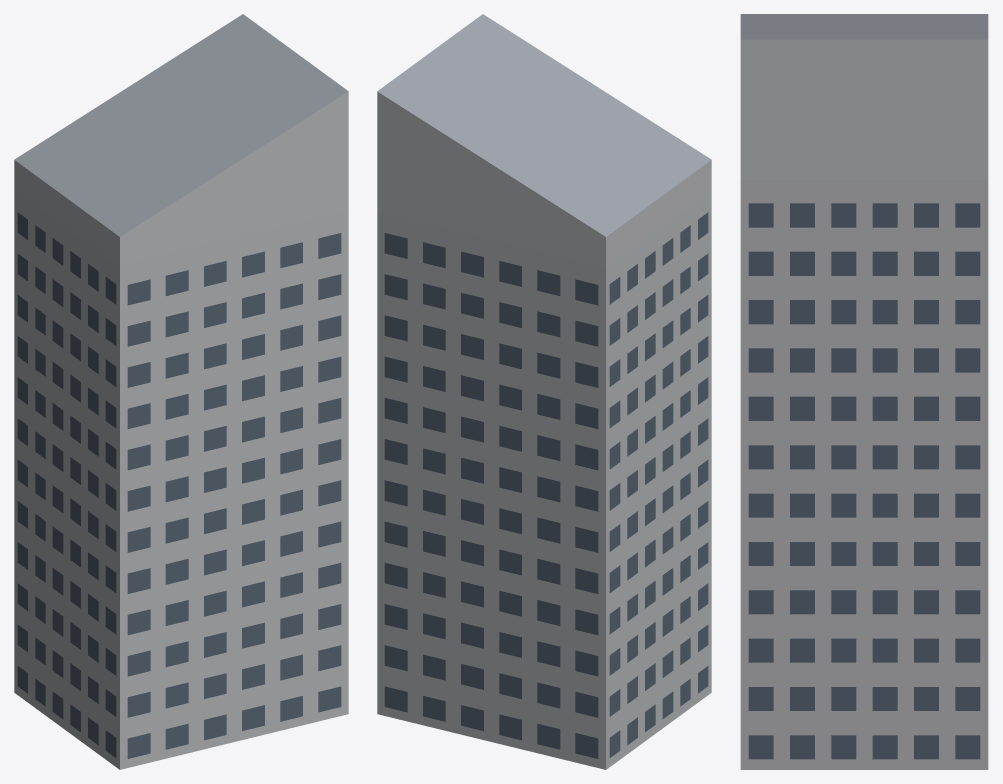
File: highrise_09_slanted_crown.glb
3 views of the same model, side by side, from view 1: azimuth 30°, elevation 25°; view 2: azimuth 150°, elevation 25°; view 3: azimuth 270°, elevation 25° (orthographic). The views are drawn at different scales.
Visible parts, largest first — view 1: highrise_09_slanted_crown; view 2: highrise_09_slanted_crown; view 3: highrise_09_slanted_crown.
Part boxes in pixels (x1,y1,x2,y2): highrise_09_slanted_crown: (14, 14, 348, 769); highrise_09_slanted_crown: (377, 14, 711, 769); highrise_09_slanted_crown: (740, 14, 988, 769).
Size of the model in its own units: 20.03 by 52 by 16.03.
